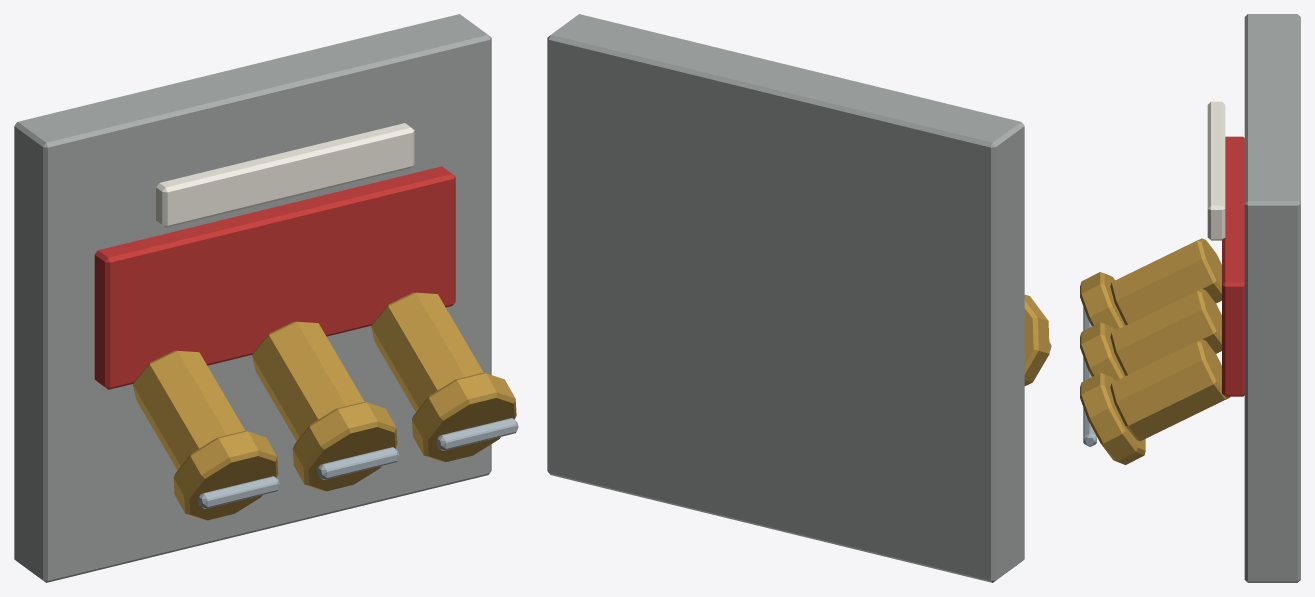
File: b05_wall_fire_hose_connection.glb
3 renders of one model, left to right at view 1: azimuth 30°, elevation 25°; view 2: azimuth 150°, elevation 25°; view 3: azimuth 270°, elevation 25°, orthographic. The views are drawn at different scales.
Visible parts, largest first — view 1: b05_wall_fire_hose_connection; view 2: b05_wall_fire_hose_connection; view 3: b05_wall_fire_hose_connection.
Boxes of the visible parts, left/top/right/bottom form: b05_wall_fire_hose_connection: left=14, top=14, right=518, bottom=582; b05_wall_fire_hose_connection: left=547, top=14, right=1051, bottom=582; b05_wall_fire_hose_connection: left=1080, top=14, right=1300, bottom=582.
Bounding box in the file's own units: 0.64 × 0.6 × 0.3143.
